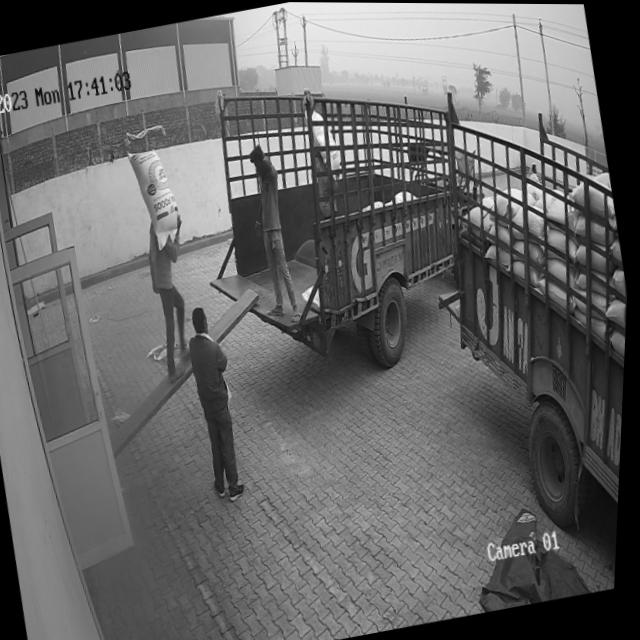sack: (124, 143, 188, 252)
